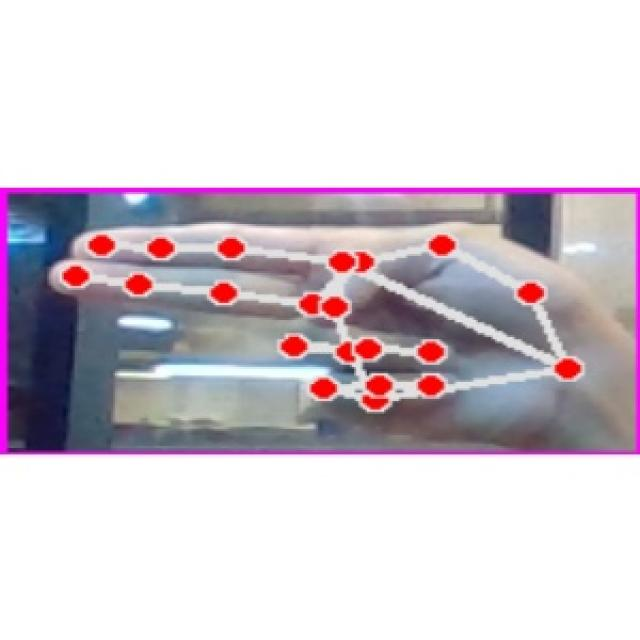H: (24, 214, 614, 444)
